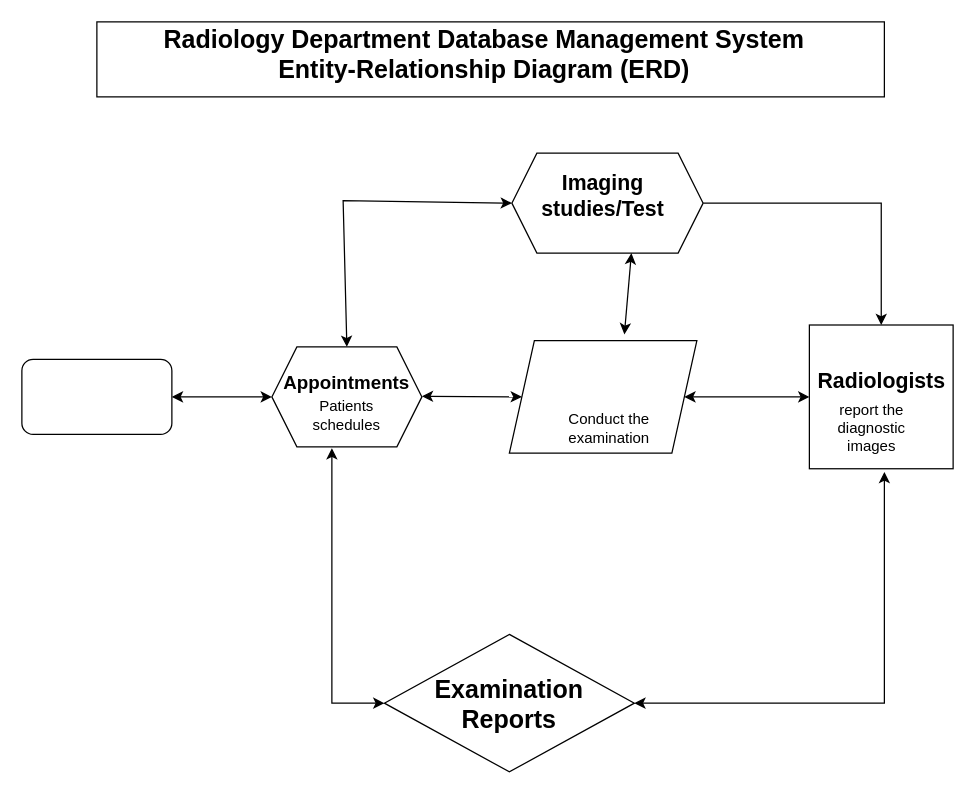
Image size: 975x794. Some labels were removed from this diagram. The box of each missing label's shape, as (x1, y1, x2, y2) in pixels:
Patients: (21, 358, 172, 434)
Radiographers: (508, 339, 697, 453)
